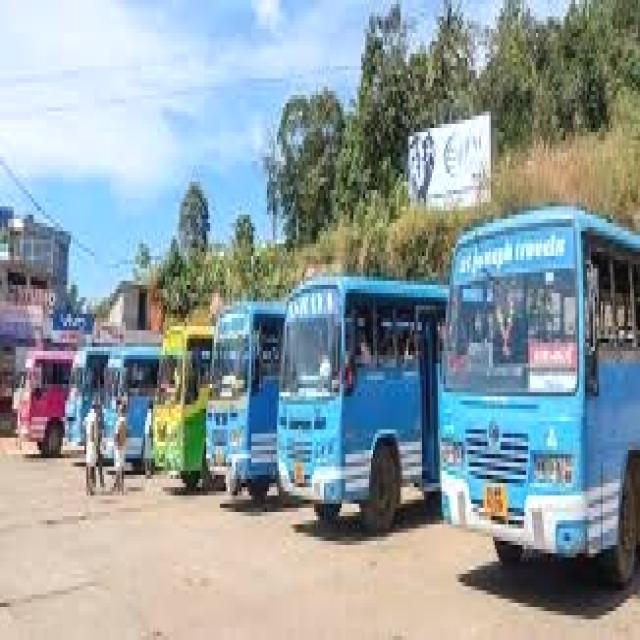bus: (438, 202, 640, 610), (278, 249, 438, 518), (205, 294, 284, 533), (148, 308, 212, 495), (17, 326, 76, 475), (100, 330, 159, 473), (64, 326, 111, 493)
